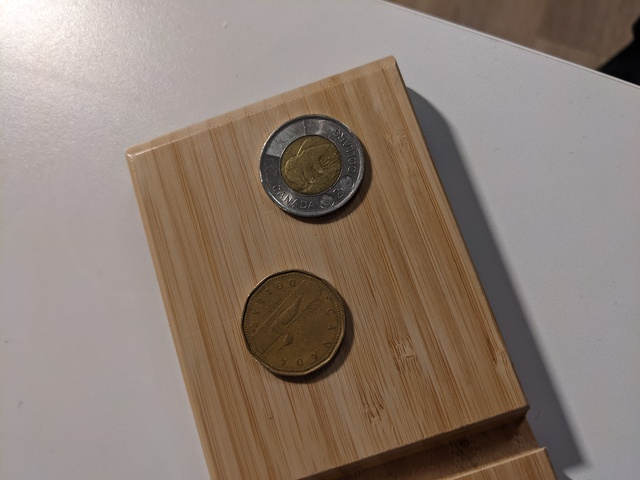loonie: (229, 259, 350, 377)
twonie: (255, 116, 376, 229)
